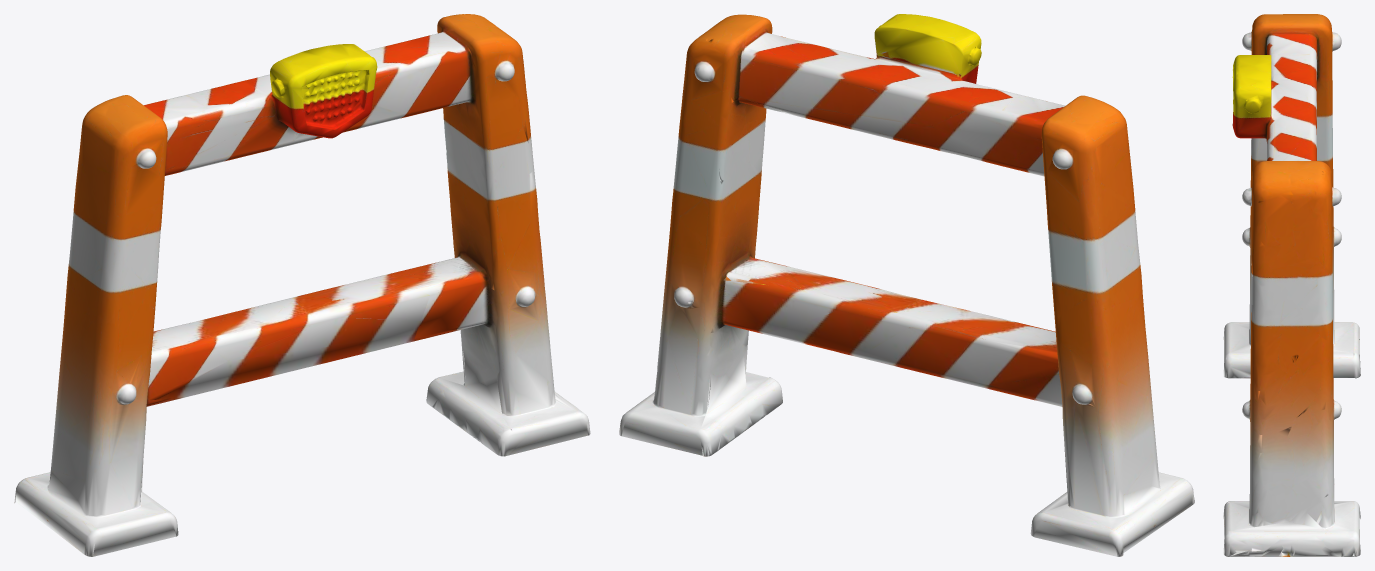
File: barricade.glb
3 views of the same model, side by side, from view 1: azimuth 30°, elevation 25°; view 2: azimuth 150°, elevation 25°; view 3: azimuth 270°, elevation 25° (orthographic). The views are drawn at different scales.
Bounding box in the file's own units: 1.91 × 1.55 × 0.5096.
1 material, 1 textured.
